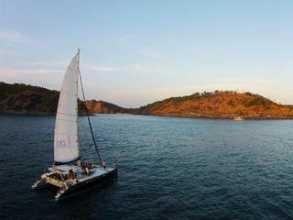fanchuan: (30, 42, 124, 204)
